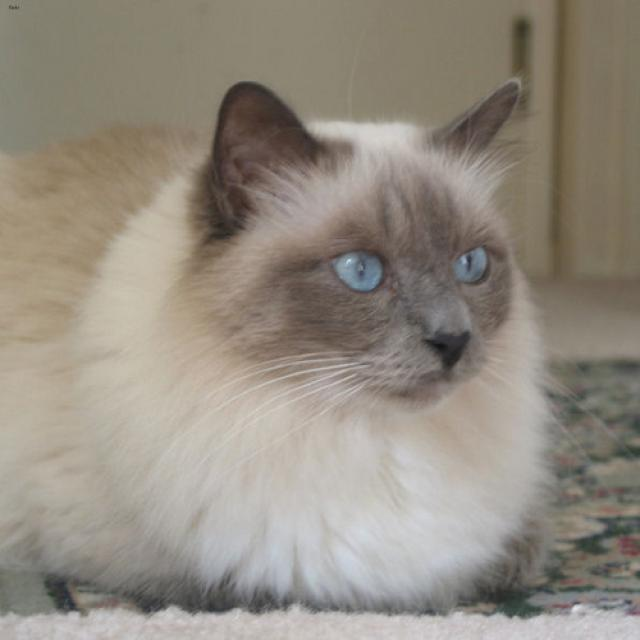Birman: (108, 72, 562, 598)
